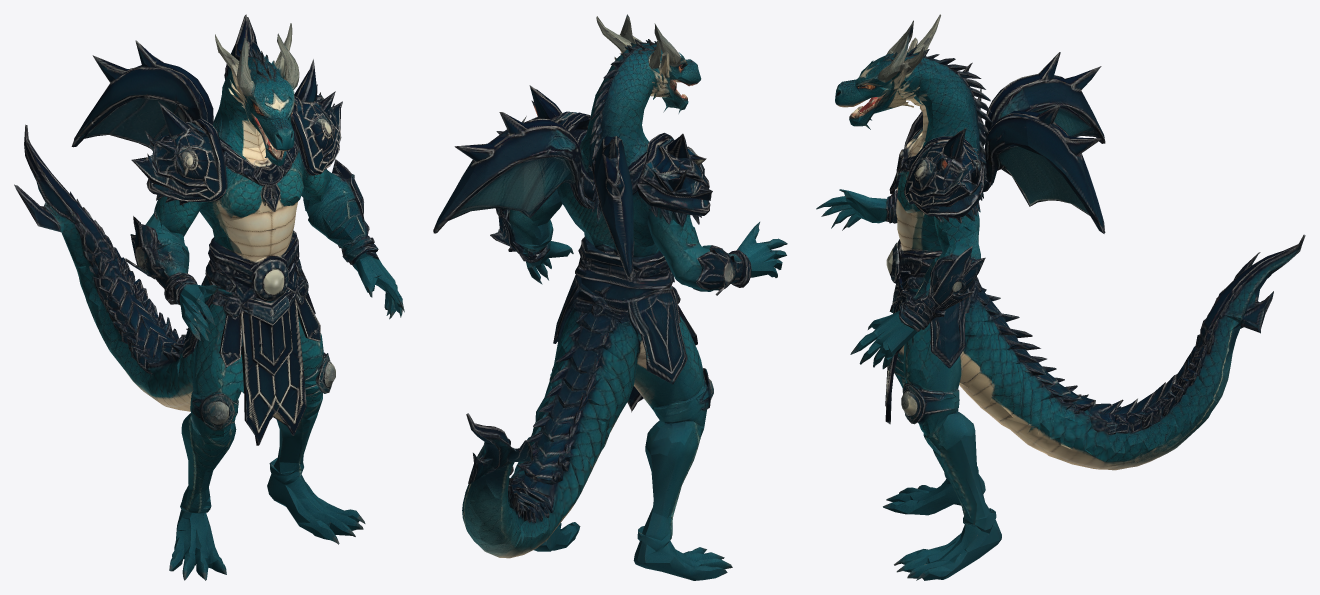
The model's file is bakunawaHero.glb.
The picture shows the model from 3 angles, left to right: view 1: azimuth 30°, elevation 25°; view 2: azimuth 150°, elevation 25°; view 3: azimuth 270°, elevation 25°; orthographic projection. The views are drawn at different scales.
Visible parts, largest first — view 1: mesh_node; view 2: mesh_node; view 3: mesh_node.
Boxes of the visible parts, x1,y1,x2,y2 form: mesh_node: (14, 14, 404, 580); mesh_node: (433, 14, 787, 580); mesh_node: (816, 14, 1305, 580).
Bounding box in the file's own units: 0.8719 × 1.9 × 1.66.
Materials: 1 (1 with a texture image).
